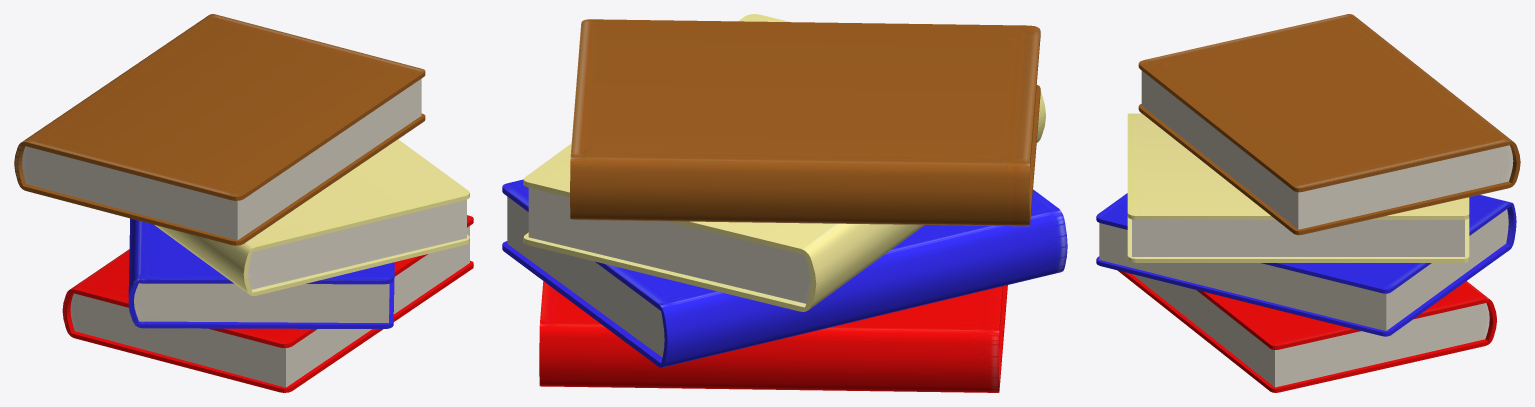
The model's file is StackedBooks1.fbx.
3 renders of one model, left to right at view 1: azimuth 30°, elevation 25°; view 2: azimuth 150°, elevation 25°; view 3: azimuth 270°, elevation 25°, orthographic. The views are drawn at different scales.
Visible parts, largest first — view 1: Cube.002; view 2: Cube.002; view 3: Cube.002.
Boxes of the visible parts, <box> form: Cube.002: <box>14,14,473,392</box>; Cube.002: <box>502,14,1067,392</box>; Cube.002: <box>1096,14,1520,392</box>.
Bounding box in the file's own units: 549 × 248 × 508.
4 materials, 4 textured.
